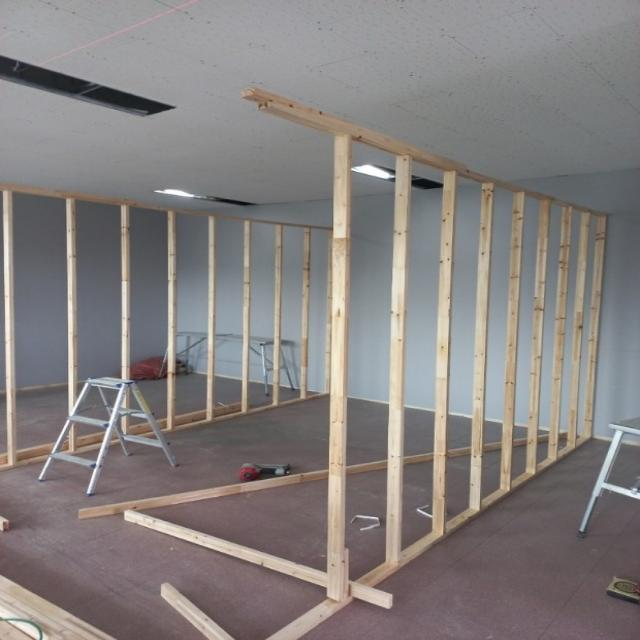stud: (240, 86, 612, 640), (0, 182, 331, 468), (161, 582, 234, 640)
wood: (78, 432, 568, 519), (124, 509, 392, 609), (0, 402, 241, 464)
